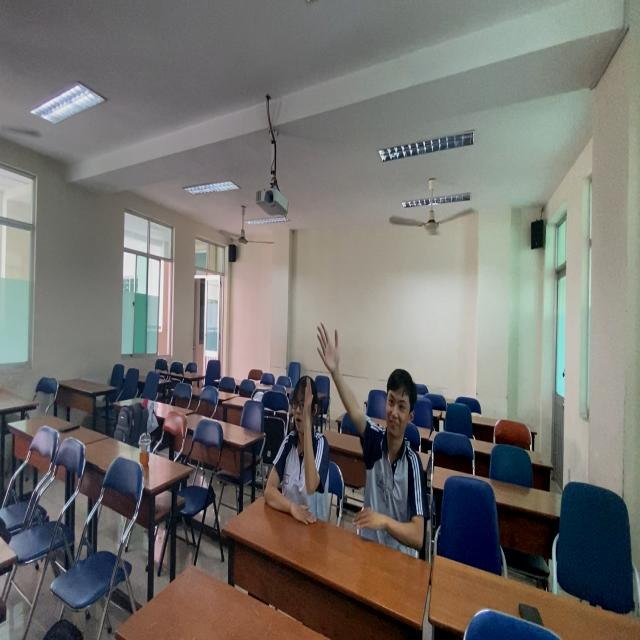raise_hand: (317, 314, 435, 559), (254, 368, 332, 536)
